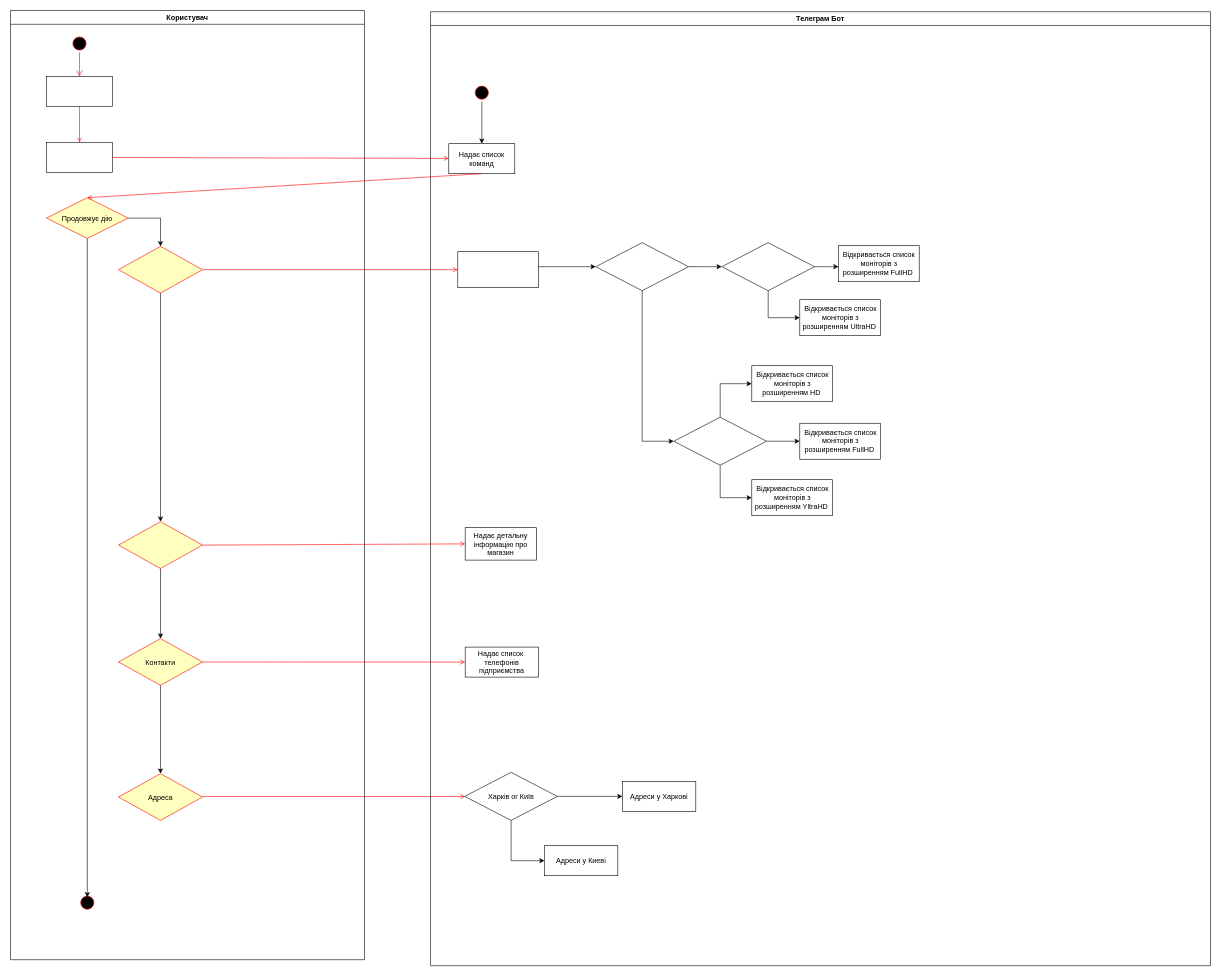
The diagram is 1221 pixels wide and 976 high, and some of its shapes have lost their labels. Each missing label, with the centre of its shape:
FullHD or UltraHD: pixel 767 266
HD or FullHD or UltraHD: pixel 719 441
Відкривається список категорій моніторів: pixel 497 269
Натискає на кнопку "Купити": pixel 79 91
Переадресація на телеграм бота: pixel 79 157
Підбір моніторів: pixel 160 269
Ігрові монітори or Монітори для офісу: pixel 641 266
Інформація про магазин: pixel 160 544
